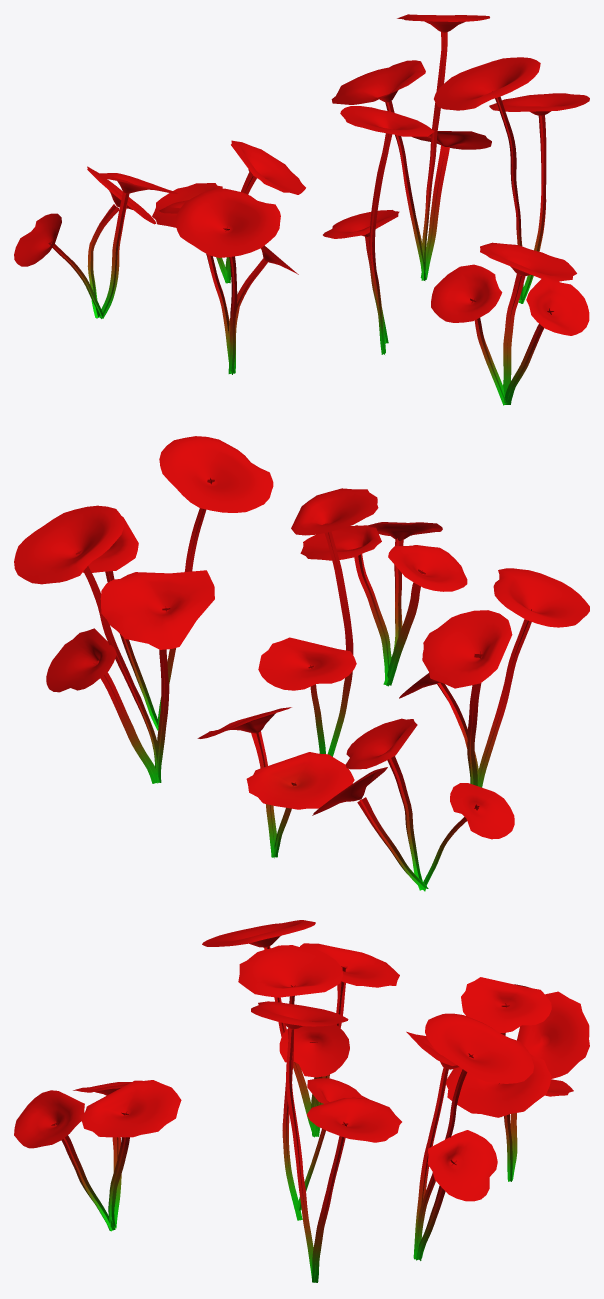
Rendered from Native Violet_LOD0_Var9_ultkcfeja.fbx.
3 views of the same model, one above another, from view 1: azimuth 30°, elevation 25°; view 2: azimuth 150°, elevation 25°; view 3: azimuth 270°, elevation 25° (orthographic). The views are drawn at different scales.
Visible parts, largest first — view 1: _glck_Var9_LOD0; view 2: _glck_Var9_LOD0; view 3: _glck_Var9_LOD0.
Boxes of the visible parts, box(x1,y1,x2,y2) form: _glck_Var9_LOD0: box(14, 14, 589, 405); _glck_Var9_LOD0: box(14, 436, 589, 891); _glck_Var9_LOD0: box(14, 920, 589, 1282).
Size of the model in its own units: 26.25 by 13.48 by 25.64.
